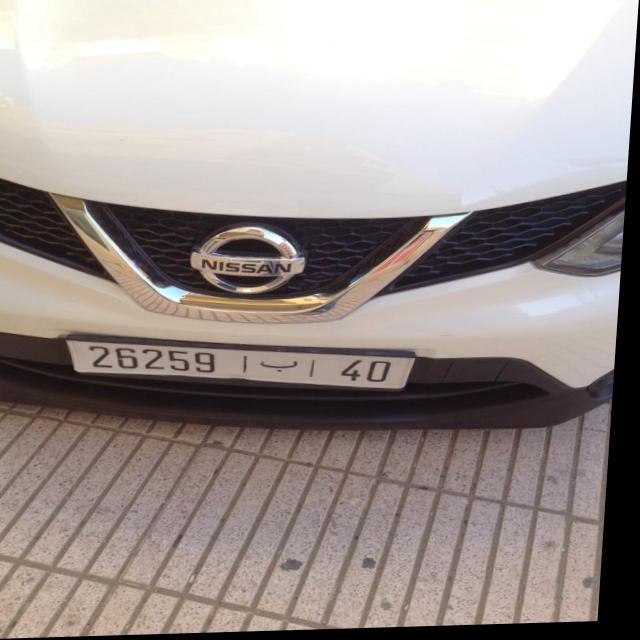License-Plate: (72, 341, 419, 391)
